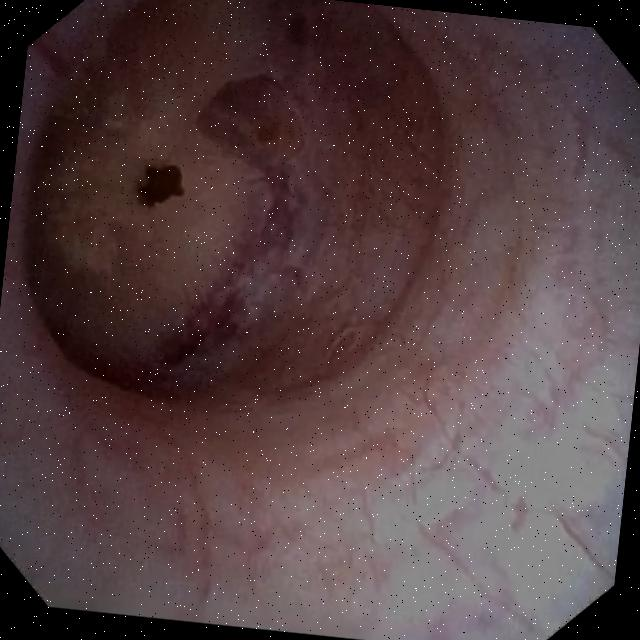stone-new: (139, 168, 180, 207)
